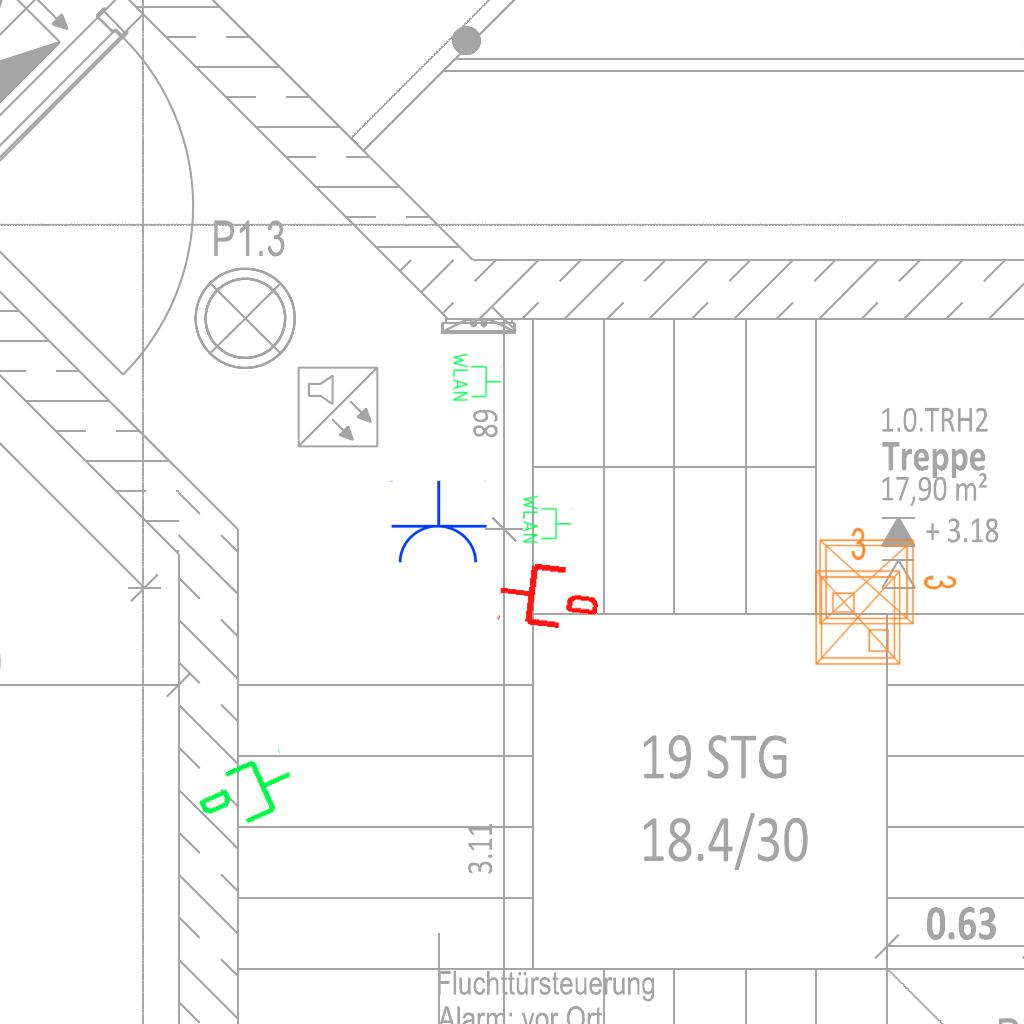Datenanschluss_einfach: (187, 743, 308, 847), (494, 555, 603, 637)
Einbaudownlights_LED_Konferenzraeume: (804, 522, 908, 672), (812, 528, 962, 632)
Schukosteckdose_einfach: (388, 480, 488, 567)
WLAN: (521, 493, 573, 545), (451, 351, 503, 403)
